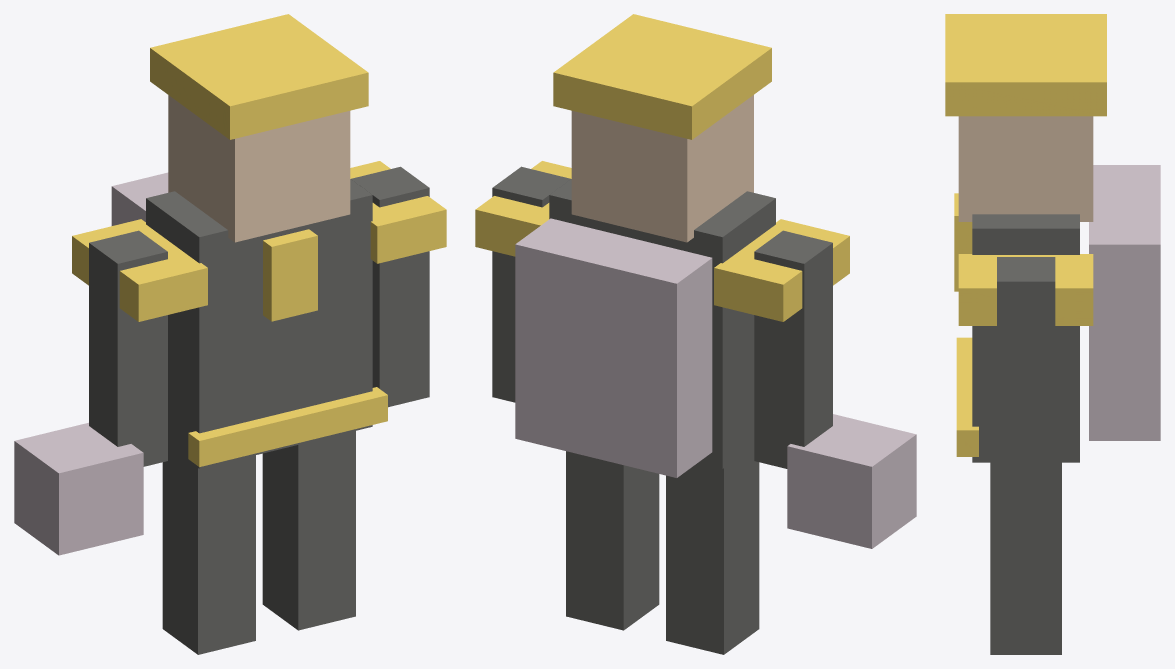
File: 18_tamsin_nullborne_sentinel_near_elemental.glb
3 views of the same model, side by side, from view 1: azimuth 30°, elevation 25°; view 2: azimuth 150°, elevation 25°; view 3: azimuth 270°, elevation 25° (orthographic).
Visible parts, largest first — view 1: Tamsin Nullborne, Sentinel near Elemental; view 2: Tamsin Nullborne, Sentinel near Elemental; view 3: Tamsin Nullborne, Sentinel near Elemental.
Part boxes in pixels (bbox=[...]): Tamsin Nullborne, Sentinel near Elemental: bbox=[14, 14, 446, 654]; Tamsin Nullborne, Sentinel near Elemental: bbox=[475, 14, 916, 654]; Tamsin Nullborne, Sentinel near Elemental: bbox=[945, 14, 1160, 654].
Bounding box in the file's own units: 0.998 × 1.4 × 0.4815.
